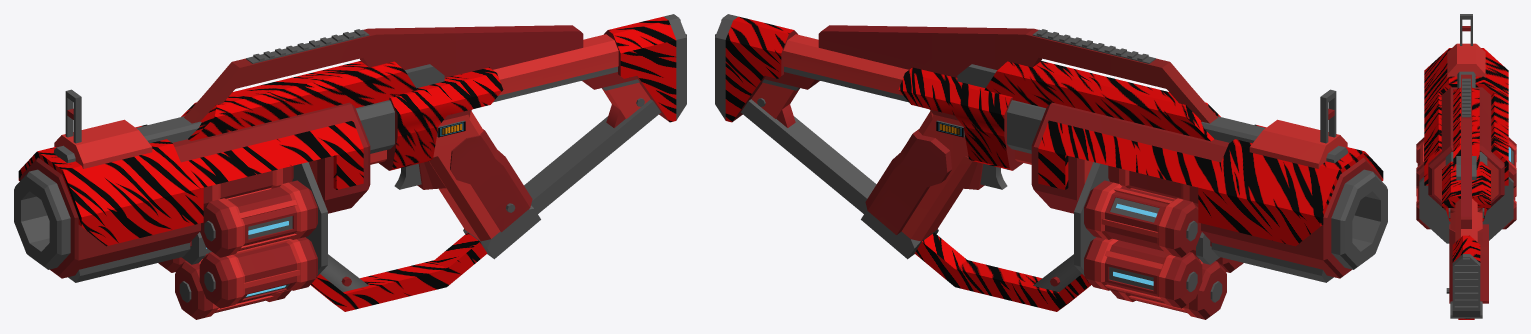
The model's file is SM_GLA01A.fbx.
3 views of the same model, side by side, from view 1: azimuth 30°, elevation 25°; view 2: azimuth 150°, elevation 25°; view 3: azimuth 270°, elevation 25° (orthographic). The views are drawn at different scales.
Parts seen in each view (by area): view 1: SM_GLA01A, SM_Grenade6, SM_Grenade5, SM_Grenade4, SM_GLA01_Drum, SM_Grenade1, SM_GLA01_Trigger; view 2: SM_GLA01A, SM_Grenade2, SM_Grenade3, SM_Grenade4, SM_GLA01_Drum, SM_Grenade1, SM_GLA01_Trigger; view 3: SM_GLA01A, SM_GLA01_Drum, SM_Grenade2, SM_Grenade6, SM_Grenade5, SM_Grenade3.
Boxes of the visible parts, x1,y1,x2,y2 form: SM_GLA01A: [14, 14, 686, 311]; SM_Grenade6: [200, 180, 317, 257]; SM_Grenade5: [199, 237, 317, 308]; SM_Grenade4: [175, 259, 291, 319]; SM_GLA01_Drum: [181, 162, 327, 276]; SM_Grenade1: [203, 165, 293, 207]; SM_GLA01_Trigger: [394, 163, 421, 189]; SM_GLA01A: [715, 14, 1387, 311]; SM_Grenade2: [1084, 180, 1201, 257]; SM_Grenade3: [1084, 237, 1202, 308]; SM_Grenade4: [1110, 259, 1226, 319]; SM_GLA01_Drum: [1074, 162, 1219, 276]; SM_Grenade1: [1108, 165, 1198, 207]; SM_GLA01_Trigger: [980, 163, 1007, 189]; SM_GLA01A: [1424, 14, 1508, 319]; SM_GLA01_Drum: [1419, 177, 1513, 243]; SM_Grenade2: [1508, 137, 1516, 187]; SM_Grenade6: [1416, 137, 1424, 187]; SM_Grenade5: [1416, 186, 1430, 229]; SM_Grenade3: [1502, 186, 1516, 229].
Bounding box in the file's own units: 68.81 × 28.48 × 13.91.
Materials: 5 (3 with a texture image).
